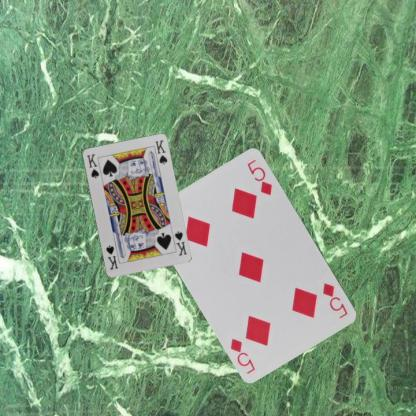5d: (320, 280, 350, 320)
Ks: (172, 228, 188, 257), (84, 151, 100, 179)
